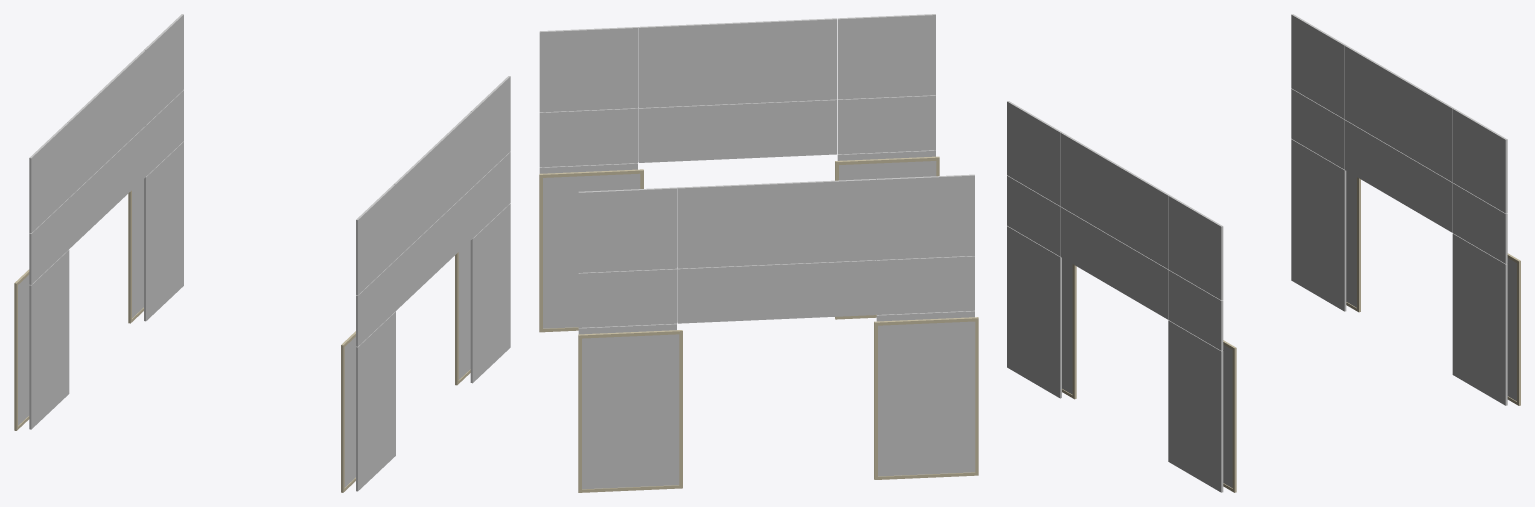
Rendered from EntranceGlassBest.fbx.
The picture shows the model from 3 angles, left to right: view 1: azimuth 30°, elevation 25°; view 2: azimuth 150°, elevation 25°; view 3: azimuth 270°, elevation 25°; orthographic projection. The views are drawn at different scales.
Visible parts, largest first — view 1: System_Panel:DG Panel:10571797, System_Panel:DG Panel:10587627, System_Panel:DG Panel:10587595, System_Panel:DG Panel:10072557, System_Panel:DG Panel:10072553, System_Panel:DG Panel:10587597, 45-25-28-366_- Aluminium Sliding Doors (EDT 01):EDT 01(b):10, 45-25-28-366_- Aluminium Sliding Doors (EDT 01):EDT 01(a):10, System_Panel:DG Panel:10587584, System_Panel:DG Panel:10071929, System_Panel:DG Panel:10587626, System_Panel:DG Panel:10571796 (+6 smaller); view 2: 45-25-28-366_- Aluminium Sliding Doors (EDT 01):EDT 01(b):10, System_Panel:DG Panel:10571797, System_Panel:DG Panel:10587627, System_Panel:DG Panel:10587584, System_Panel:DG Panel:10071929, 45-25-28-366_- Aluminium Sliding Doors (EDT 01):EDT 01(a):10, System_Panel:DG Panel:10571796, System_Panel:DG Panel:10587628, System_Panel:DG Panel:10571798, System_Panel:DG Panel:10587626, System_Panel:DG Panel:10071928, System_Panel:DG Panel:10071932 (+6 smaller); view 3: System_Panel:DG Panel:10571797, System_Panel:DG Panel:10587627, System_Panel:DG Panel:10072557, System_Panel:DG Panel:10587597, System_Panel:DG Panel:10587595, System_Panel:DG Panel:10072553, System_Panel:DG Panel:10071929, System_Panel:DG Panel:10587584, System_Panel:DG Panel:10571798, System_Panel:DG Panel:10587628, System_Panel:DG Panel:10587626, System_Panel:DG Panel:10571796 (+6 smaller).
Boxes of the visible parts, left/top/right/bottom form: System_Panel:DG Panel:10571797: left=394, top=112, right=472, bottom=258; System_Panel:DG Panel:10587627: left=67, top=50, right=145, bottom=197; System_Panel:DG Panel:10587595: left=29, top=250, right=69, bottom=429; System_Panel:DG Panel:10072557: left=470, top=203, right=510, bottom=383; System_Panel:DG Panel:10072553: left=356, top=311, right=395, bottom=491; System_Panel:DG Panel:10587597: left=144, top=141, right=183, bottom=321; 45-25-28-366_- Aluminium Sliding Doors (EDT 01):EDT 01(b):10: left=14, top=179, right=143, bottom=430; 45-25-28-366_- Aluminium Sliding Doors (EDT 01):EDT 01(a):10: left=341, top=241, right=470, bottom=492; System_Panel:DG Panel:10587584: left=69, top=126, right=145, bottom=248; System_Panel:DG Panel:10071929: left=396, top=188, right=472, bottom=310; System_Panel:DG Panel:10587626: left=29, top=122, right=69, bottom=233; System_Panel:DG Panel:10571796: left=356, top=184, right=395, bottom=295; 45-25-28-366_- Aluminium Sliding Doors (EDT 01):EDT 01(b):10: left=578, top=317, right=978, bottom=492; System_Panel:DG Panel:10571797: left=638, top=18, right=836, bottom=107; System_Panel:DG Panel:10587627: left=677, top=179, right=875, bottom=268; System_Panel:DG Panel:10587584: left=677, top=260, right=875, bottom=323; System_Panel:DG Panel:10071929: left=638, top=99, right=836, bottom=162; 45-25-28-366_- Aluminium Sliding Doors (EDT 01):EDT 01(a):10: left=539, top=156, right=939, bottom=332; System_Panel:DG Panel:10571796: left=837, top=14, right=935, bottom=99; System_Panel:DG Panel:10587628: left=578, top=187, right=676, bottom=272; System_Panel:DG Panel:10571798: left=539, top=27, right=637, bottom=112; System_Panel:DG Panel:10587626: left=876, top=174, right=974, bottom=259; System_Panel:DG Panel:10071928: left=837, top=95, right=935, bottom=154; System_Panel:DG Panel:10071932: left=539, top=108, right=637, bottom=167; System_Panel:DG Panel:10571797: left=1060, top=132, right=1169, bottom=268; System_Panel:DG Panel:10587627: left=1345, top=45, right=1453, bottom=182; System_Panel:DG Panel:10072557: left=1168, top=320, right=1223, bottom=492; System_Panel:DG Panel:10587597: left=1452, top=233, right=1507, bottom=405; System_Panel:DG Panel:10587595: left=1291, top=139, right=1346, bottom=311; System_Panel:DG Panel:10072553: left=1007, top=226, right=1061, bottom=398; System_Panel:DG Panel:10071929: left=1060, top=207, right=1168, bottom=319; System_Panel:DG Panel:10587584: left=1345, top=120, right=1452, bottom=232; System_Panel:DG Panel:10571798: left=1168, top=195, right=1223, bottom=300; System_Panel:DG Panel:10587628: left=1452, top=108, right=1507, bottom=213; System_Panel:DG Panel:10587626: left=1291, top=14, right=1345, bottom=119; System_Panel:DG Panel:10571796: left=1007, top=101, right=1061, bottom=205.
Size of the model in its own units: 9.23 by 5.34 by 9.23.
